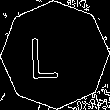L_N: (38, 29, 72, 81)
